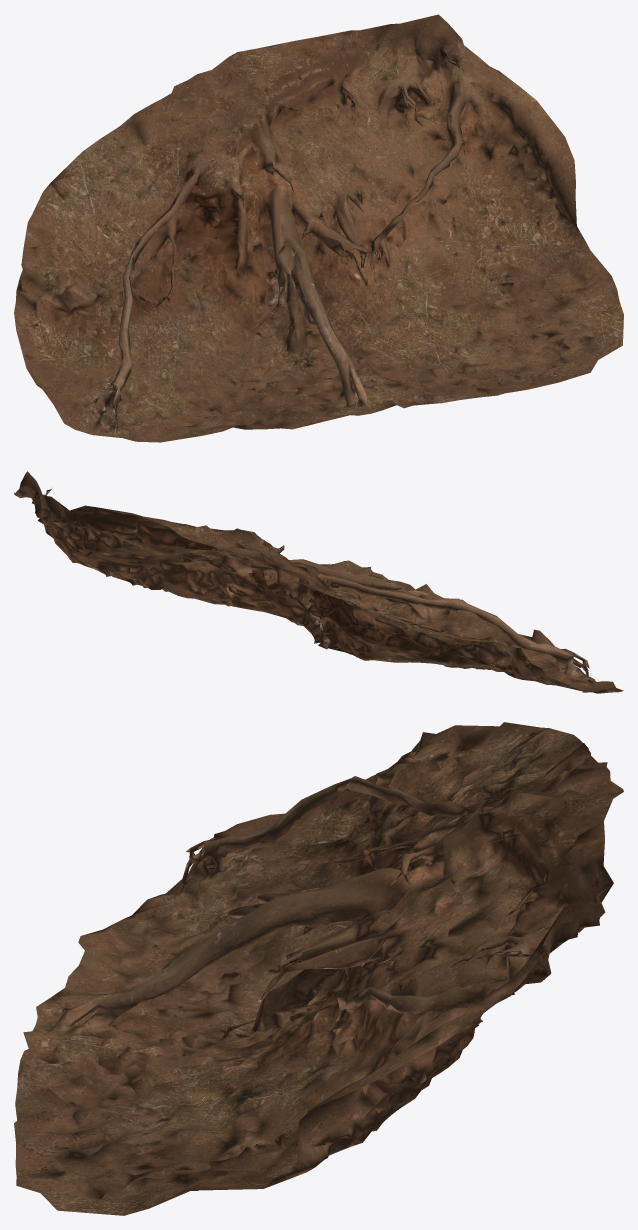
Rendered from root_cluster_01.glb.
3 renders of one model, top to bottom at view 1: azimuth 30°, elevation 25°; view 2: azimuth 150°, elevation 25°; view 3: azimuth 270°, elevation 25°, orthographic. The views are drawn at different scales.
Parts seen in each view (by area): view 1: root_cluster_01; view 2: root_cluster_01; view 3: root_cluster_01.
Boxes of the visible parts, x1,y1,x2,y2 form: root_cluster_01: [14, 14, 623, 442]; root_cluster_01: [14, 471, 623, 693]; root_cluster_01: [14, 722, 623, 1215].
Bounding box in the file's own units: 4.12 × 1.51 × 2.68.
Materials: 1 (1 with a texture image).
